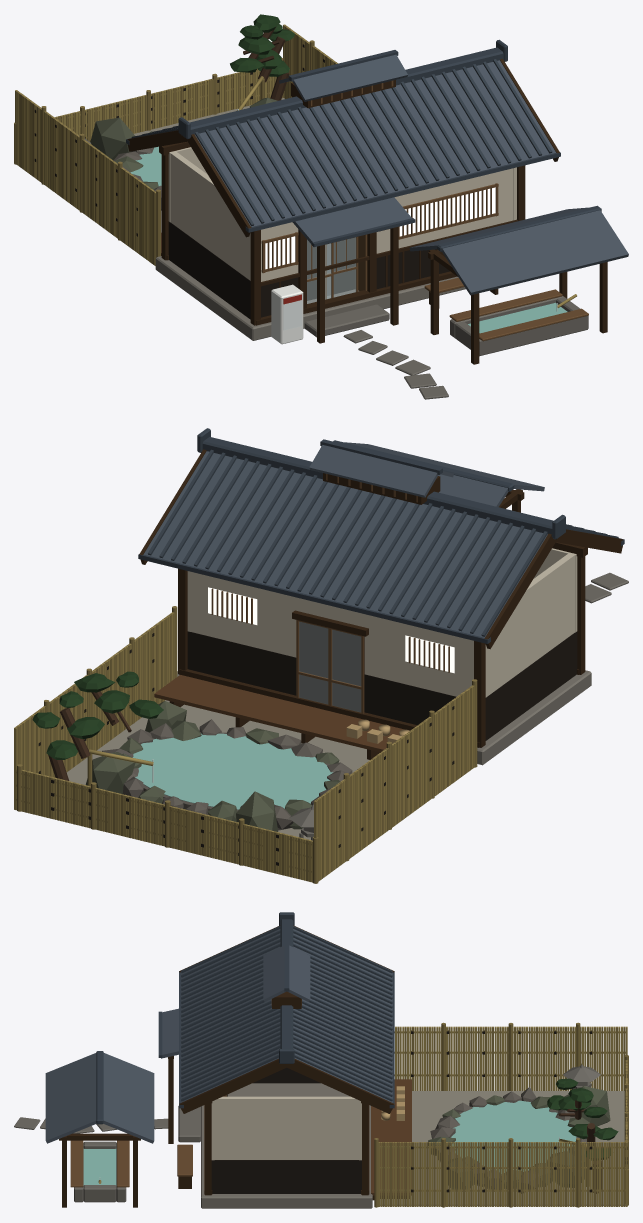
The model's file is umi-no-yu.glb.
3 views of the same model, one above another, from view 1: azimuth 30°, elevation 25°; view 2: azimuth 150°, elevation 25°; view 3: azimuth 270°, elevation 25° (orthographic). The views are drawn at different scales.
Visible parts, largest first — view 1: Umi-no-yu / matte, Umi-no-yu / gloss, Umi-no-yu / warm, Umi-no-yu / glass, Umi-no-yu / water; view 2: Umi-no-yu / matte, Umi-no-yu / gloss, Umi-no-yu / water, Umi-no-yu / glass, Umi-no-yu / warm; view 3: Umi-no-yu / matte, Umi-no-yu / gloss, Umi-no-yu / water.
Boxes of the visible parts, x1,y1,x2,y2 form: Umi-no-yu / matte: (14,14,607,399); Umi-no-yu / gloss: (126,39,628,344); Umi-no-yu / warm: (265,187,495,269); Umi-no-yu / glass: (283,237,355,330); Umi-no-yu / water: (130,109,567,333); Umi-no-yu / matte: (14,449,628,883); Umi-no-yu / gloss: (138,428,624,643); Umi-no-yu / water: (132,733,333,809); Umi-no-yu / glass: (299,622,361,712); Umi-no-yu / warm: (208,587,454,673); Umi-no-yu / matte: (14,925,628,1208); Umi-no-yu / gloss: (45,912,394,1143); Umi-no-yu / water: (83,1100,576,1185).
Bounding box in the file's own units: 8.76 × 5.78 × 16.46.
